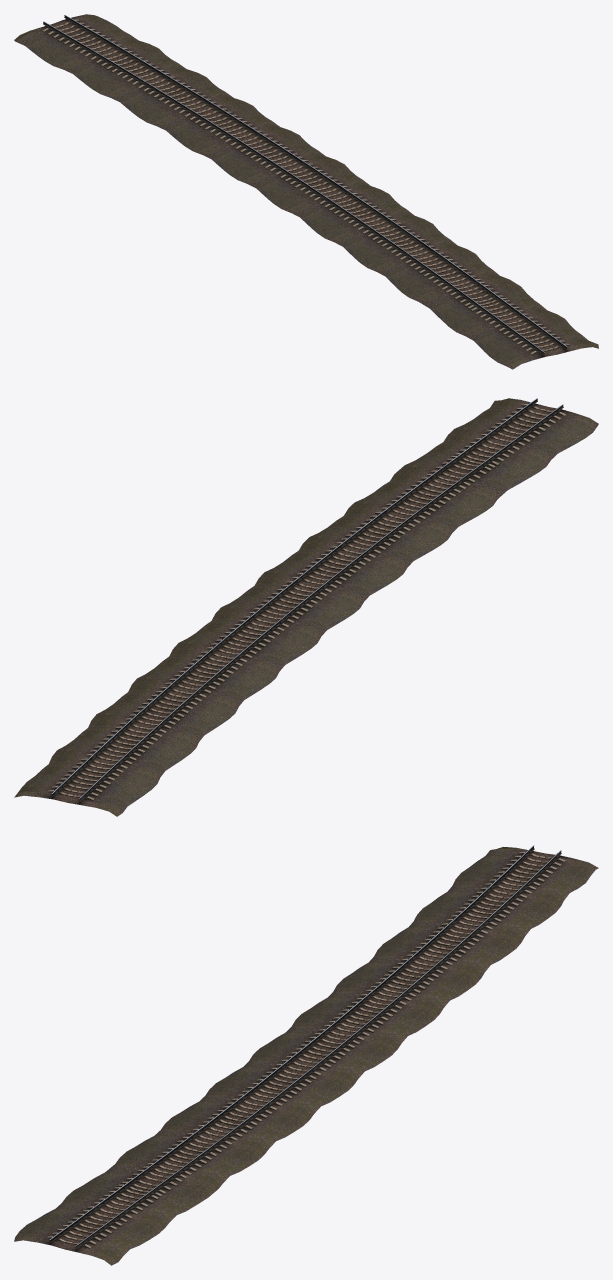
Rendered from TSM_track_1l9_R_Nz.gltf.
3 views of the same model, one above another, from view 1: azimuth 30°, elevation 25°; view 2: azimuth 150°, elevation 25°; view 3: azimuth 330°, elevation 25° (orthographic). The views are drawn at different scales.
Size of the model in its own units: 8.97 by 0.6438 by 56.78.
Materials: 1 (1 with a texture image).
